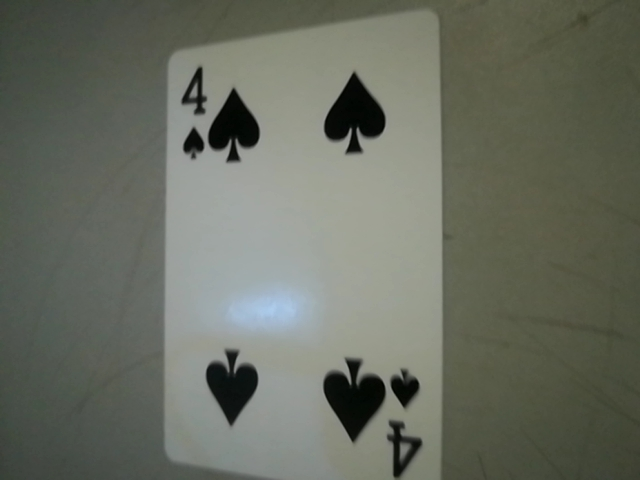ht 4: (373, 353, 437, 480)
